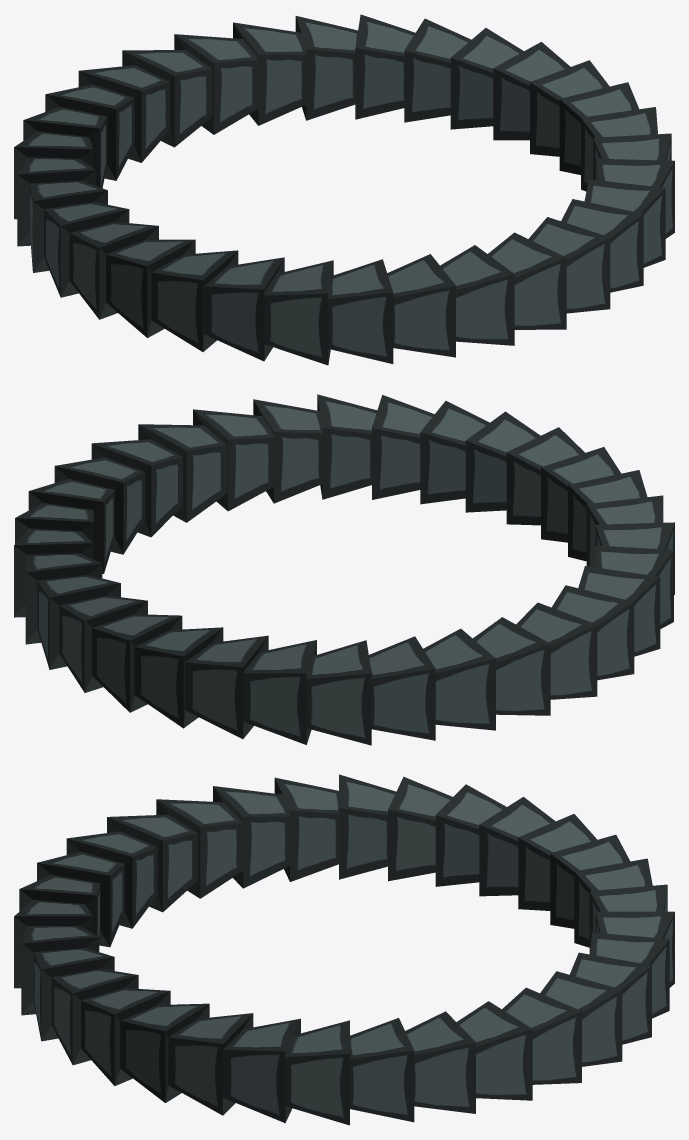
Rendered from portalFrame.fbx.
3 renders of one model, top to bottom at view 1: azimuth 30°, elevation 25°; view 2: azimuth 150°, elevation 25°; view 3: azimuth 270°, elevation 25°, orthographic.
Parts seen in each view (by area): view 1: portalFrame; view 2: portalFrame; view 3: portalFrame.
Boxes of the visible parts, box(x1,y1,x2,y2) form: portalFrame: box(14, 14, 674, 365); portalFrame: box(14, 394, 674, 745); portalFrame: box(14, 774, 674, 1125).
Size of the model in its own units: 625 by 75 by 625.
1 material, 1 textured.
